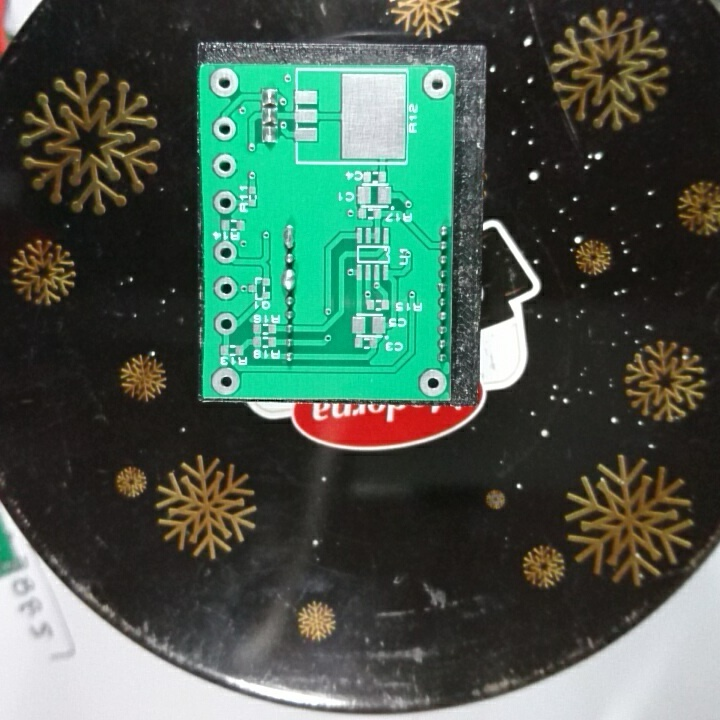F: (419, 66, 456, 101), (207, 66, 240, 100), (210, 363, 241, 396), (417, 368, 449, 398), (211, 152, 239, 180), (211, 239, 239, 267), (211, 188, 239, 215), (210, 116, 237, 143), (212, 275, 239, 301), (213, 310, 239, 337)
P: (279, 265, 299, 292), (282, 222, 299, 248)
